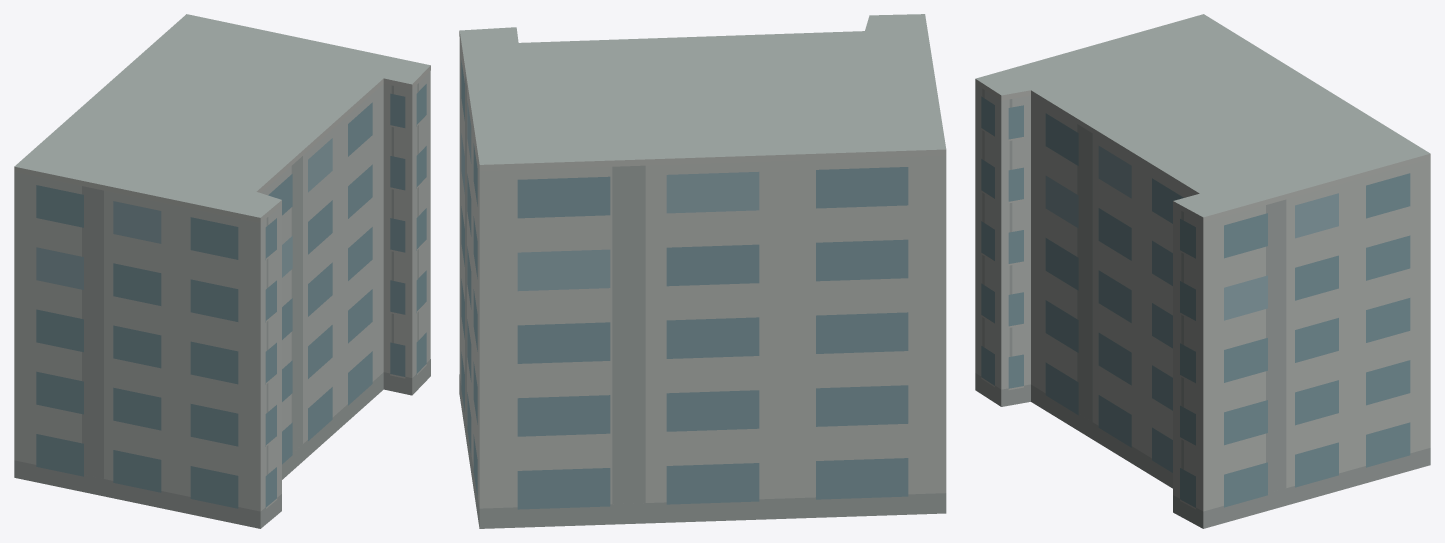
The model's file is survey-upis-32886000.glb.
3 views of the same model, side by side, from view 1: azimuth 30°, elevation 25°; view 2: azimuth 150°, elevation 25°; view 3: azimuth 270°, elevation 25° (orthographic). The views are drawn at different scales.
Parts seen in each view (by area): view 1: survey-upis-32886000.tmp; view 2: survey-upis-32886000.tmp; view 3: survey-upis-32886000.tmp.
Boxes of the visible parts, x1,y1,x2,y2 form: survey-upis-32886000.tmp: (14,14,430,528); survey-upis-32886000.tmp: (459,14,946,528); survey-upis-32886000.tmp: (975,14,1430,528).
Bounding box in the file's own units: 20.03 × 14.3 × 18.95.
